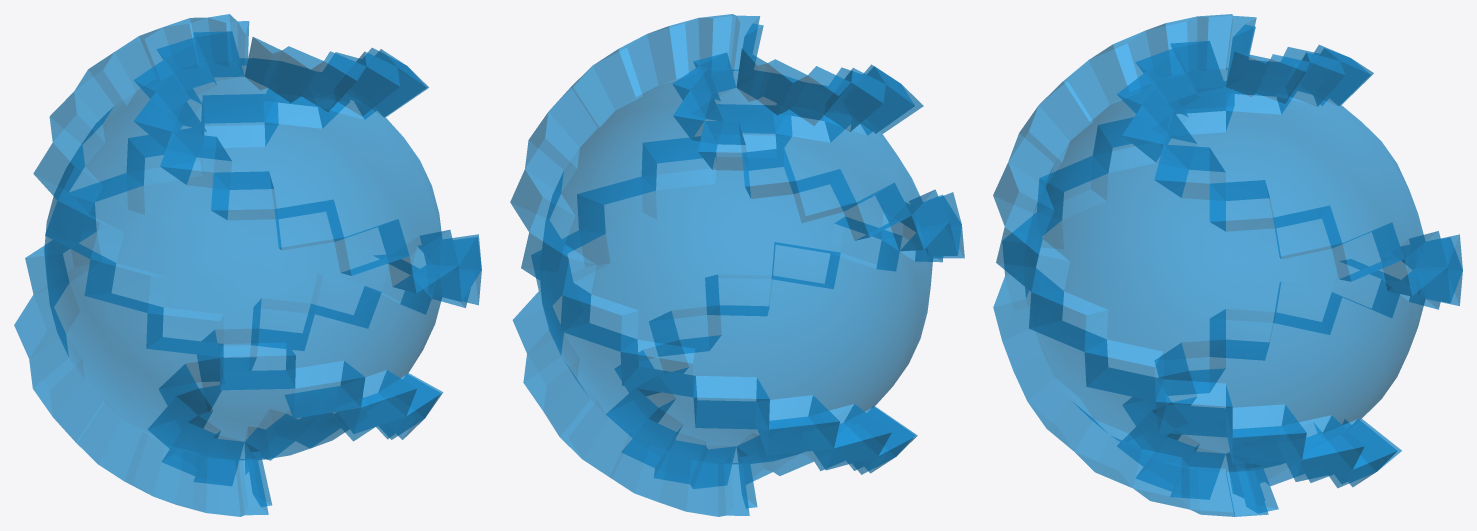
The model's file is Portal_blue.fbx.
3 views of the same model, side by side, from view 1: azimuth 30°, elevation 25°; view 2: azimuth 150°, elevation 25°; view 3: azimuth 270°, elevation 25° (orthographic). The views are drawn at different scales.
Parts seen in each view (by area): view 1: pSphere2; view 2: pSphere2; view 3: pSphere2.
Boxes of the visible parts, x1,y1,x2,y2 form: pSphere2: (14, 14, 481, 516); pSphere2: (510, 14, 964, 516); pSphere2: (993, 14, 1462, 516).
Bounding box in the file's own units: 9.26 × 10.09 × 9.36.
